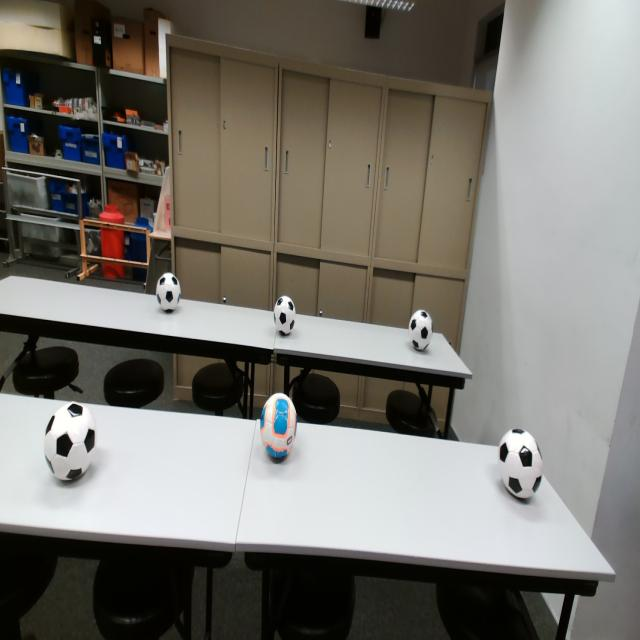ball: (43, 403, 97, 484), (498, 428, 544, 503), (261, 394, 298, 462), (409, 308, 434, 352), (410, 308, 434, 352), (273, 294, 296, 338), (158, 273, 182, 313)
